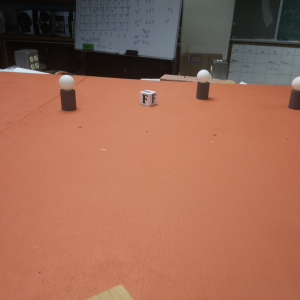blockF: (140, 90, 156, 107)
obstacle: (58, 75, 77, 110), (195, 69, 212, 101), (288, 77, 300, 116)
